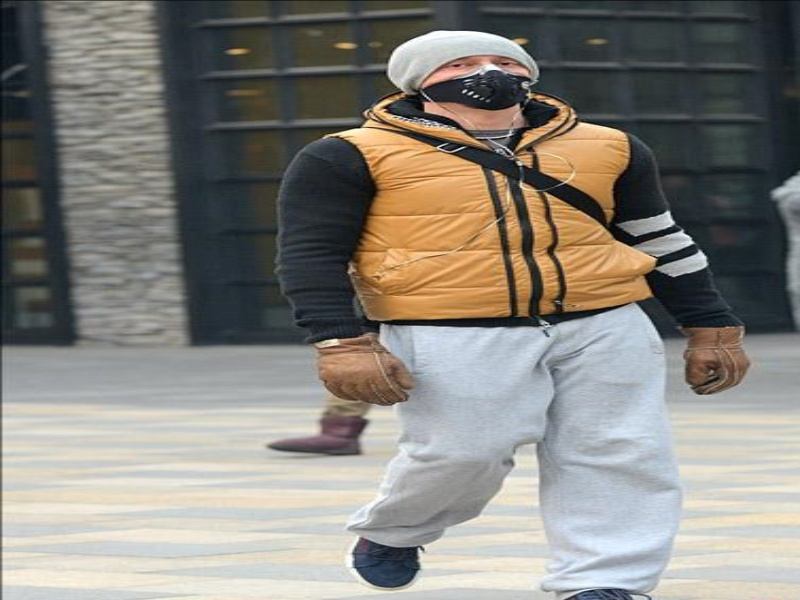mask: (395, 23, 542, 114)
